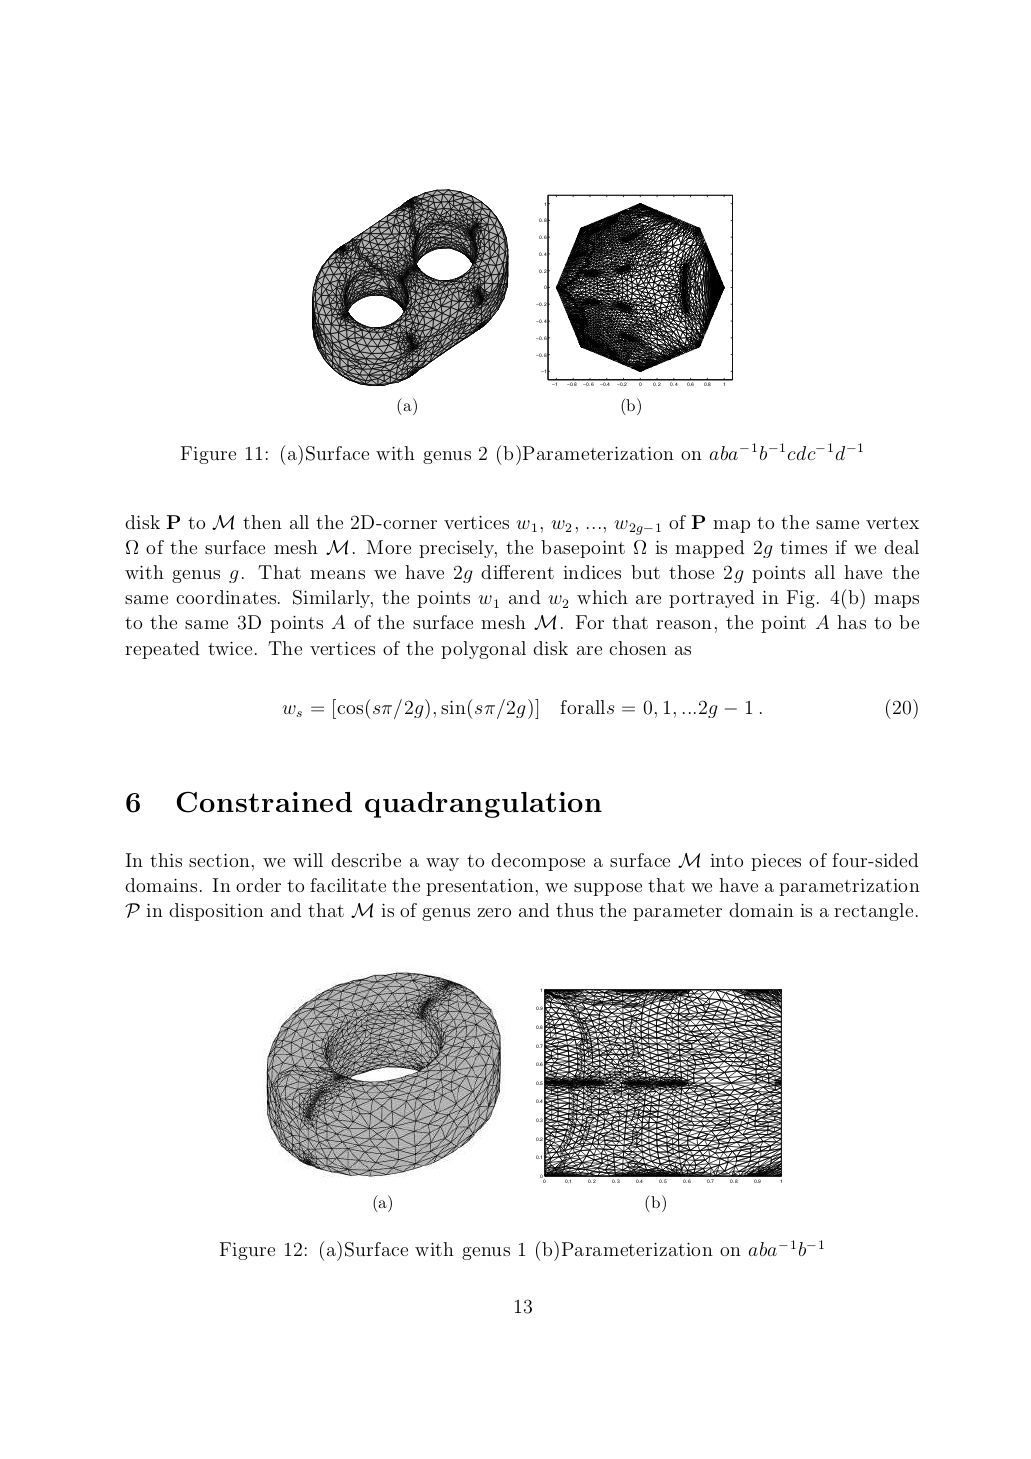figure: (264, 972, 503, 1178), (536, 987, 781, 1183), (312, 189, 508, 386), (536, 192, 732, 386)
formula: (282, 698, 917, 719)
